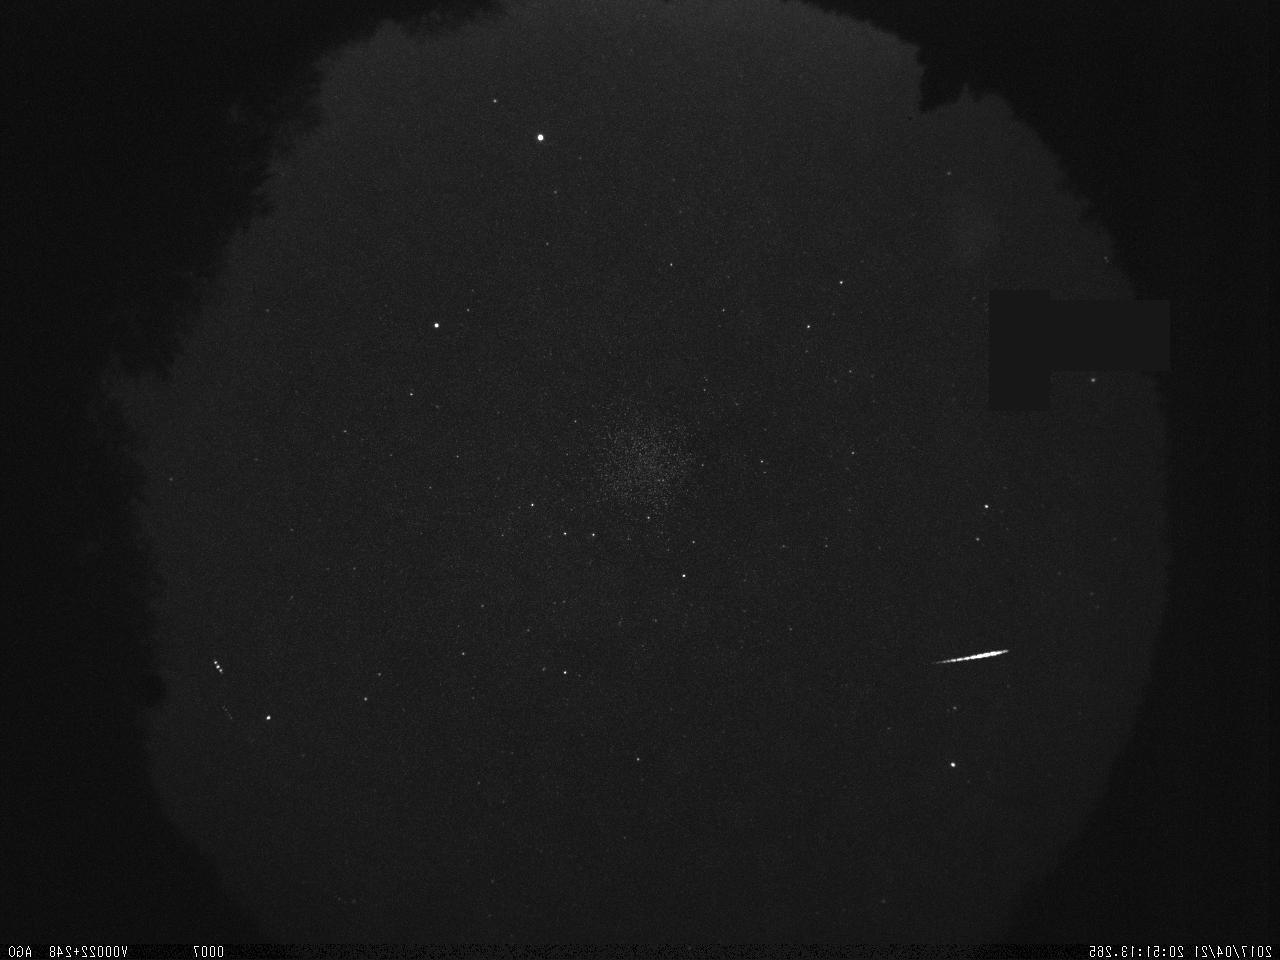meteor: (917, 638, 1019, 676)
